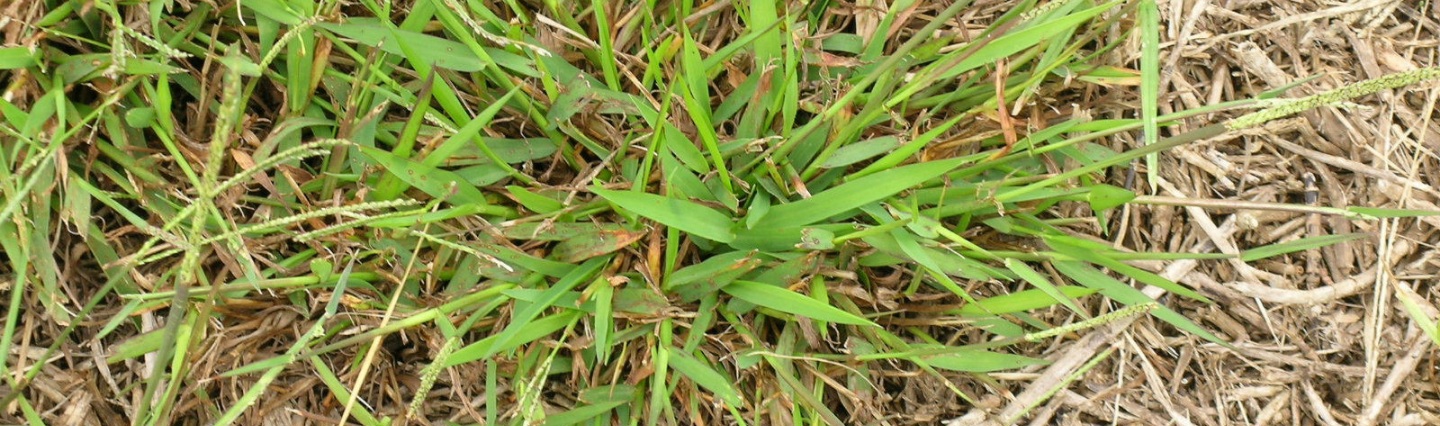crabgrass: (354, 4, 1140, 385)
